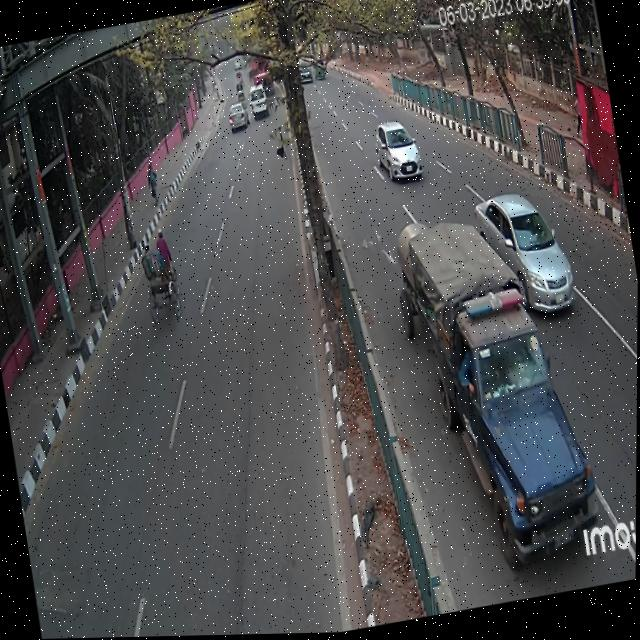rikshaw: (137, 229, 187, 329)
